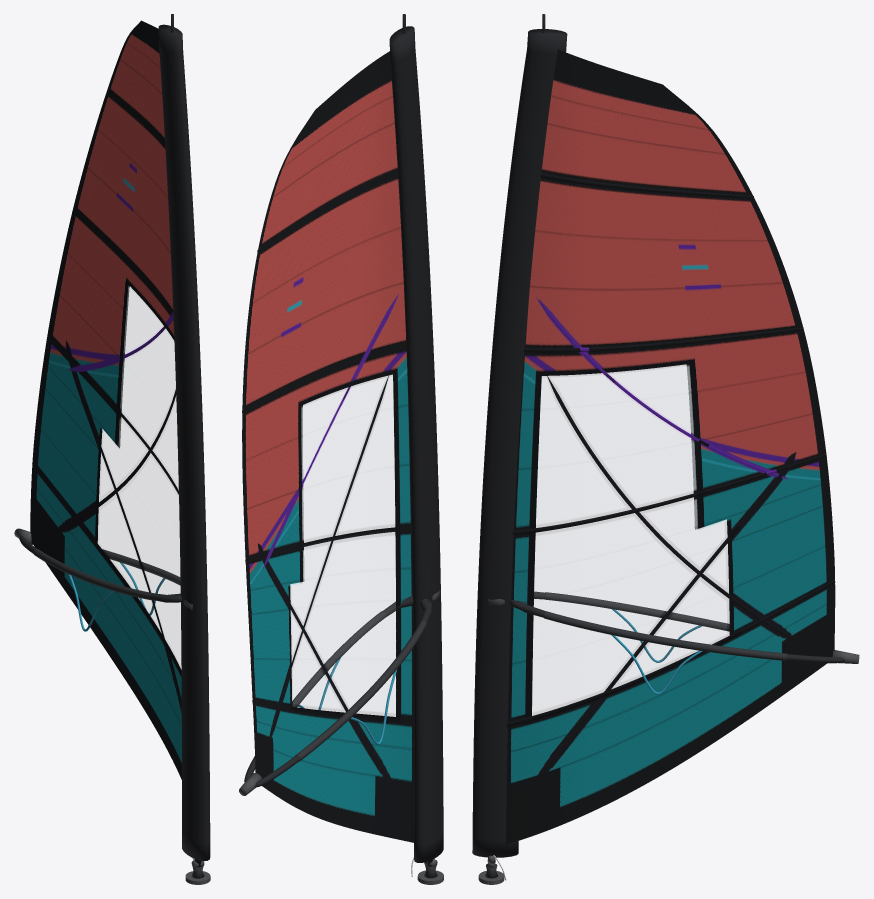
Rendered from windsurf_sail_45.glb.
The picture shows the model from 3 angles, left to right: view 1: azimuth 30°, elevation 25°; view 2: azimuth 150°, elevation 25°; view 3: azimuth 270°, elevation 25°; orthographic projection. The views are drawn at different scales.
Parts seen in each view (by area): view 1: Sail_Cloth, Mast_Sleeve, Boom_Grip_L, Boom_Grip_R; view 2: Sail_Cloth, Mast_Sleeve, Boom_Grip_L, Boom_Grip_R, Boom_Arm_L; view 3: Sail_Cloth, Mast_Sleeve, Boom_Grip_R, Boom_Grip_L.
Part boxes in pixels (bbox=[...]): Sail_Cloth: bbox=[30, 20, 181, 779]; Mast_Sleeve: bbox=[158, 24, 210, 860]; Boom_Grip_L: bbox=[33, 549, 153, 600]; Boom_Grip_R: bbox=[102, 549, 180, 585]; Sail_Cloth: bbox=[242, 51, 413, 842]; Mast_Sleeve: bbox=[389, 26, 443, 862]; Boom_Grip_L: bbox=[295, 620, 426, 761]; Boom_Grip_R: bbox=[292, 611, 386, 707]; Boom_Arm_L: bbox=[255, 599, 432, 787]; Sail_Cloth: bbox=[506, 49, 835, 844]; Mast_Sleeve: bbox=[472, 29, 567, 857]; Boom_Grip_R: bbox=[544, 611, 787, 660]; Boom_Grip_L: bbox=[544, 592, 729, 631].
Bounding box in the file's own units: 0.3753 × 4.3 × 1.74.
9 materials, 2 textured.
